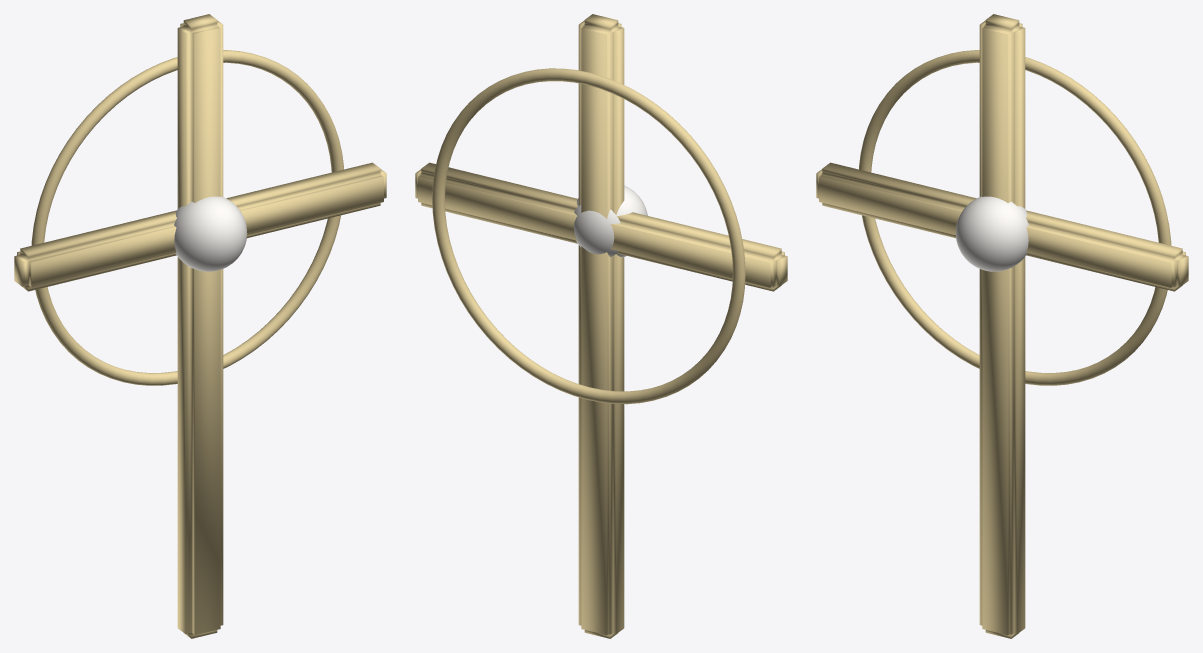
File: cruz.glb
3 views of the same model, side by side, from view 1: azimuth 30°, elevation 25°; view 2: azimuth 150°, elevation 25°; view 3: azimuth 330°, elevation 25° (orthographic).
Visible parts, largest first — view 1: Cruz_Bautizo_Editorial; view 2: Cruz_Bautizo_Editorial; view 3: Cruz_Bautizo_Editorial.
Boxes of the visible parts, box(x1,y1,x2,y2) form: Cruz_Bautizo_Editorial: box(14, 14, 386, 638); Cruz_Bautizo_Editorial: box(415, 14, 787, 638); Cruz_Bautizo_Editorial: box(816, 14, 1188, 638).
Bounding box in the file's own units: 0.92 × 1.48 × 0.189.
